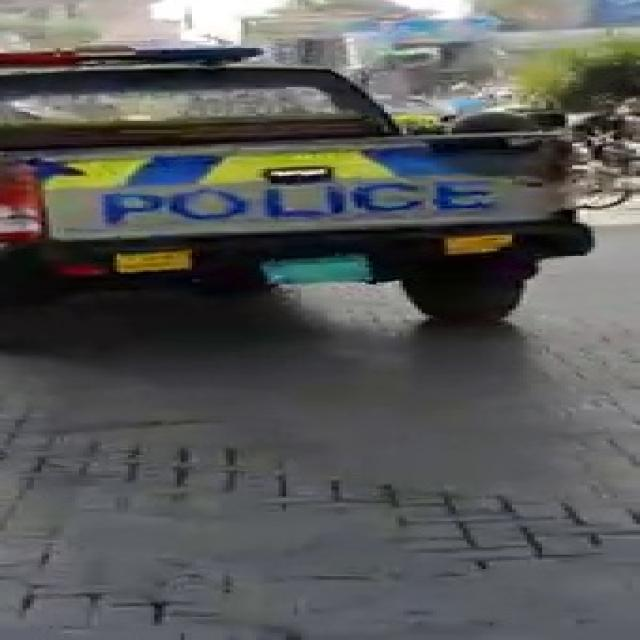police: (0, 47, 558, 345)
